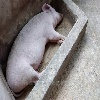heo: (4, 2, 68, 94)
